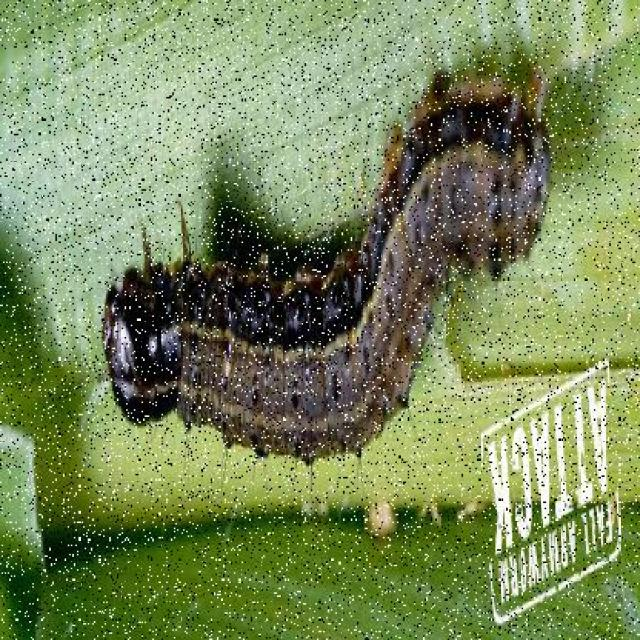Plaga: (96, 64, 552, 483)
